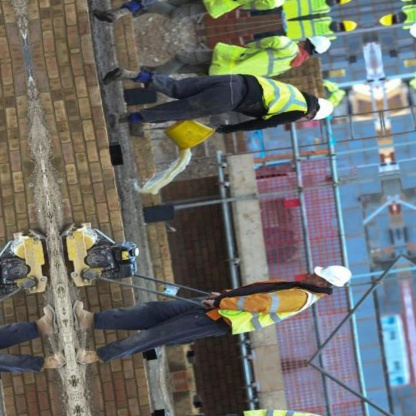vest: (211, 272, 325, 341), (204, 27, 308, 90), (253, 68, 313, 123), (284, 14, 339, 47)
white: (308, 259, 358, 292), (305, 94, 339, 126), (302, 31, 337, 58)
yellow: (344, 17, 360, 35)
